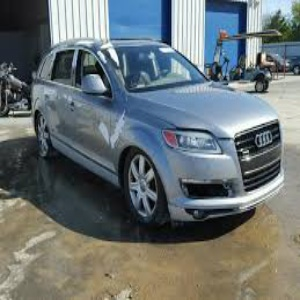door_scratch: (75, 109, 109, 161)
